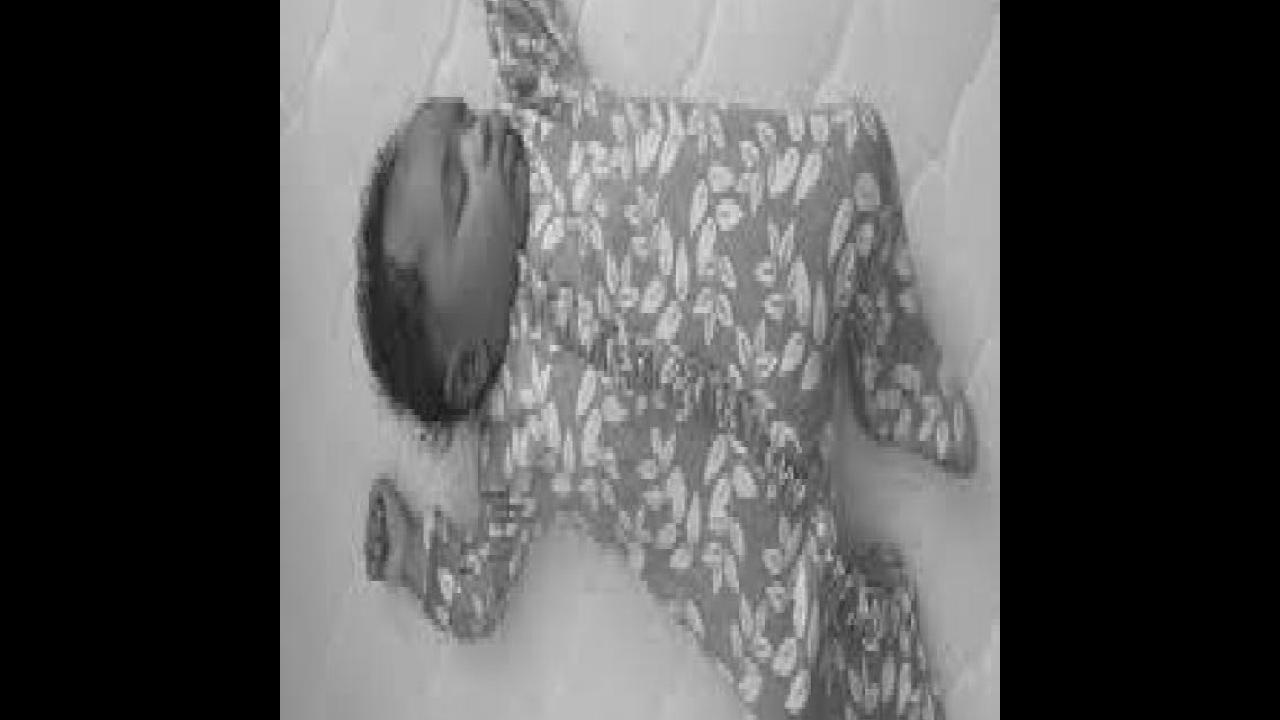hand: (362, 474, 412, 587)
